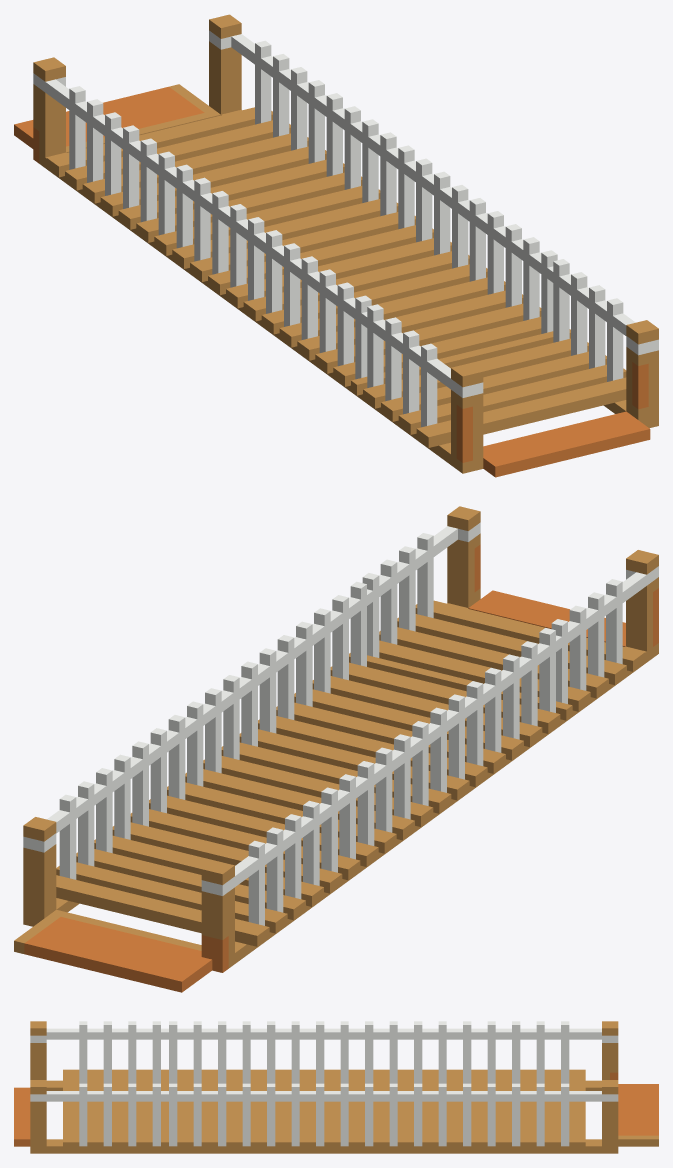
Rendered from BRIDGE.obj.
3 renders of one model, top to bottom at view 1: azimuth 30°, elevation 25°; view 2: azimuth 150°, elevation 25°; view 3: azimuth 270°, elevation 25°, orthographic. The views are drawn at different scales.
Size of the model in its own units: 2.1 by 0.9 by 7.9.
Materials: 1 (1 with a texture image).
